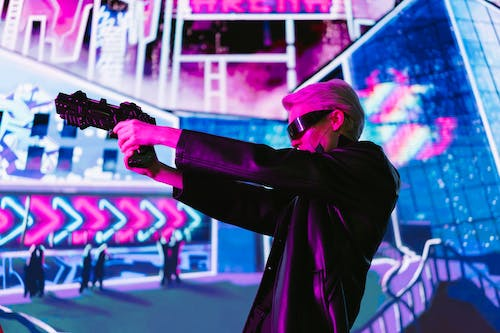gun: (53, 88, 160, 169)
